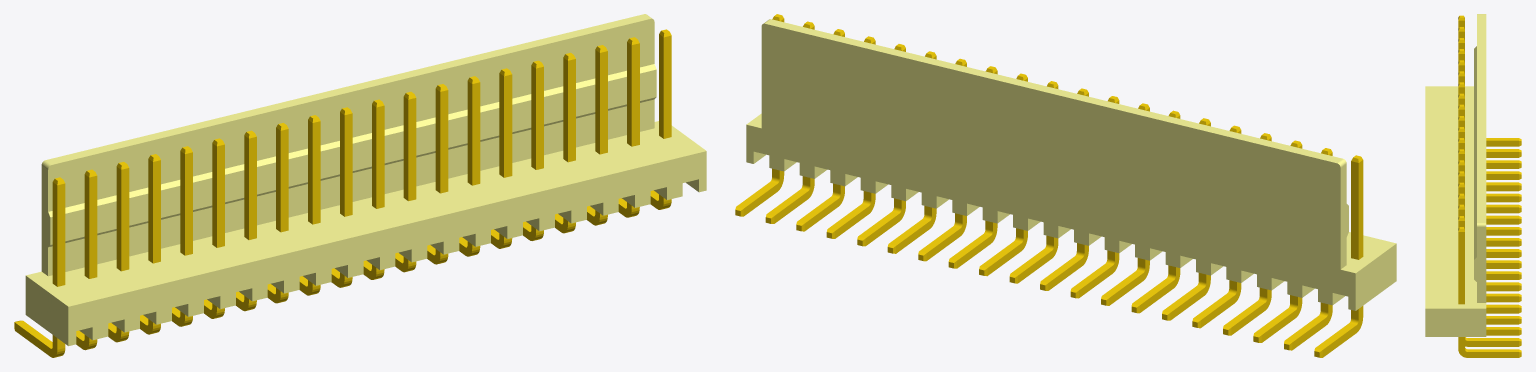
File: DS1070-20MR (WF-20RA CONNFLY).obj
3 renders of one model, left to right at view 1: azimuth 30°, elevation 25°; view 2: azimuth 150°, elevation 25°; view 3: azimuth 270°, elevation 25°, orthographic. The views are drawn at different scales.
Parts seen in each view (by area): view 1: DS1070-20MR_(WF-20RA_CONNFLY); view 2: DS1070-20MR_(WF-20RA_CONNFLY); view 3: DS1070-20MR_(WF-20RA_CONNFLY).
Boxes of the visible parts, x1,y1,x2,y2 form: DS1070-20MR_(WF-20RA_CONNFLY): (14,14,706,357); DS1070-20MR_(WF-20RA_CONNFLY): (735,14,1396,357); DS1070-20MR_(WF-20RA_CONNFLY): (1425,14,1521,357).
Bounding box in the file's own units: 0.0132 × 0.00366 × 0.00242.
